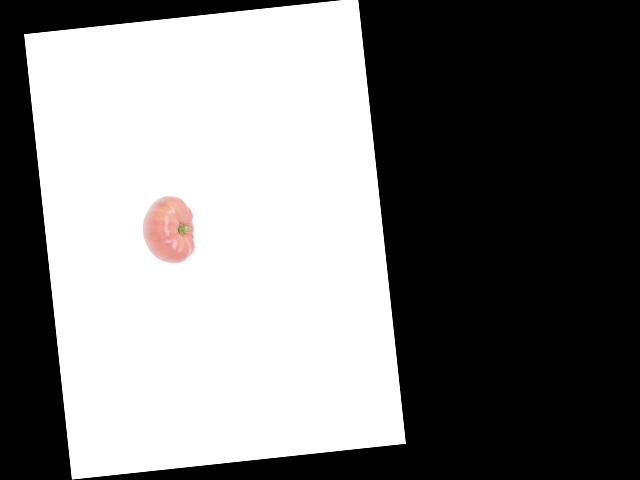tomato: (139, 193, 196, 265)
